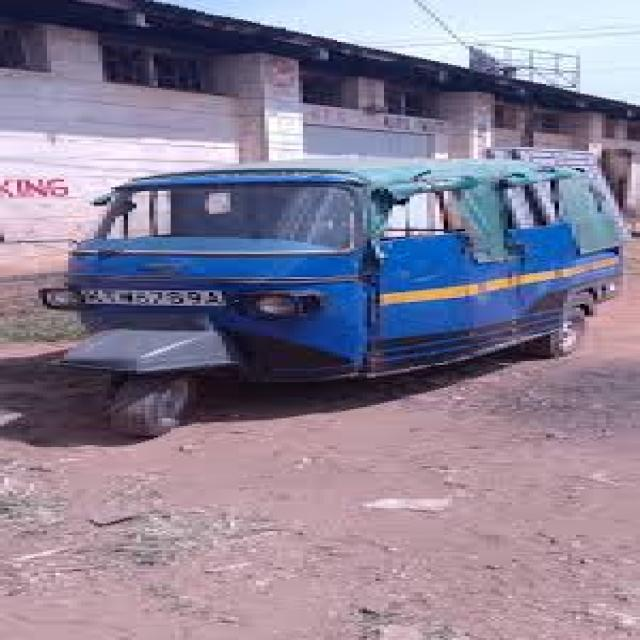tuktuk: (4, 125, 628, 459)
